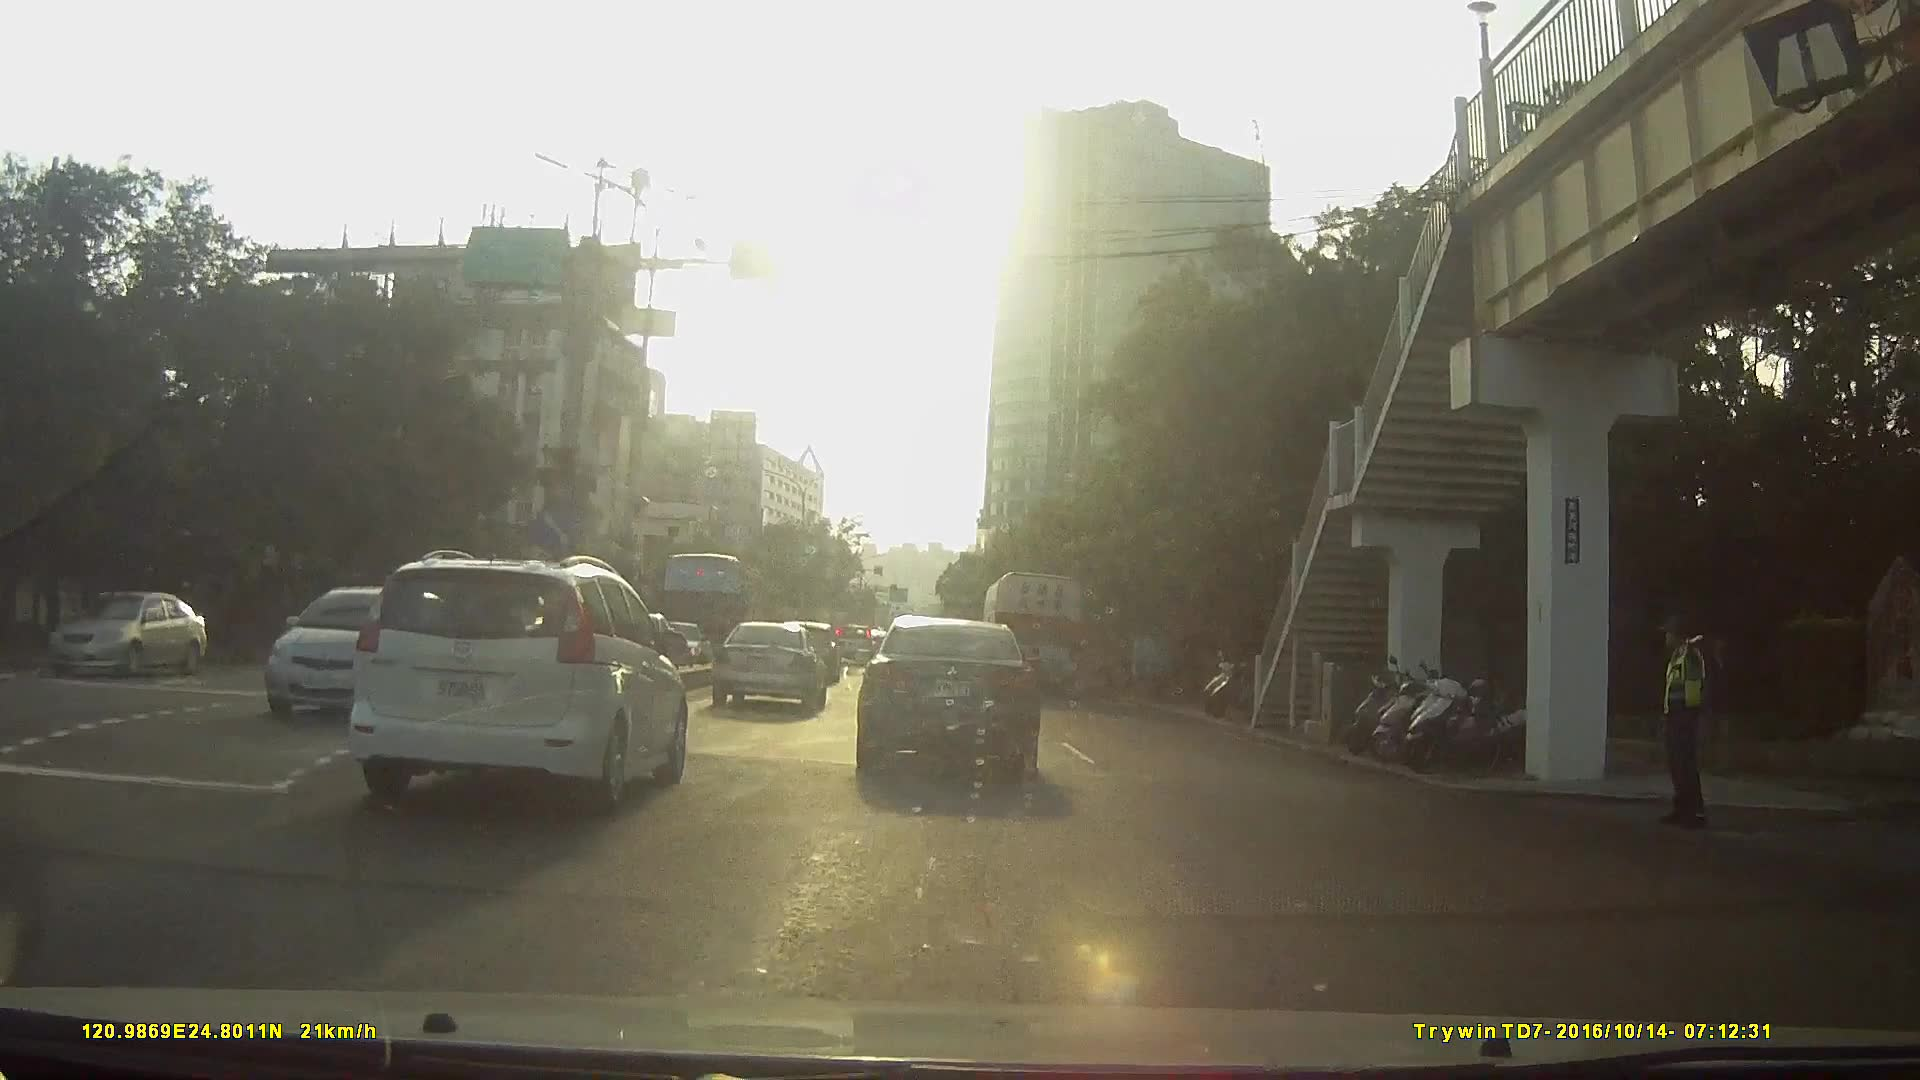pedestrian: (1640, 606, 1722, 832)
vehicle: (250, 556, 684, 868), (352, 549, 691, 811), (248, 582, 451, 740), (855, 611, 1042, 782), (49, 587, 226, 685), (975, 569, 1085, 701), (651, 550, 768, 661), (713, 620, 830, 714), (828, 619, 875, 663)
